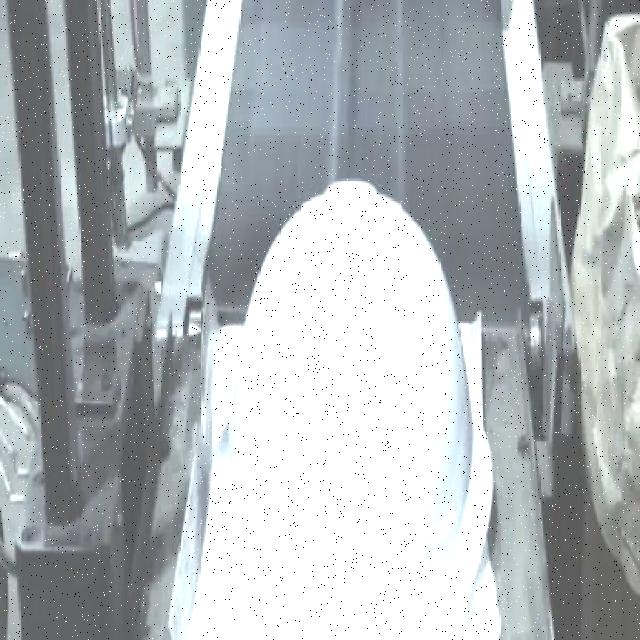Helmet: (208, 176, 497, 638)
